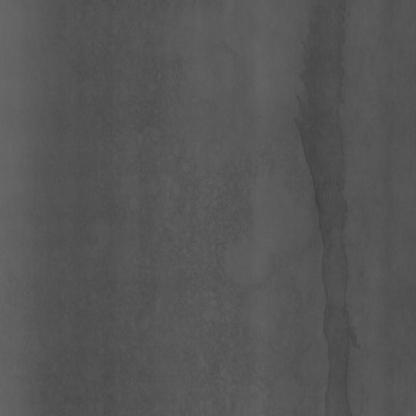water_spot: (283, 10, 356, 398)
